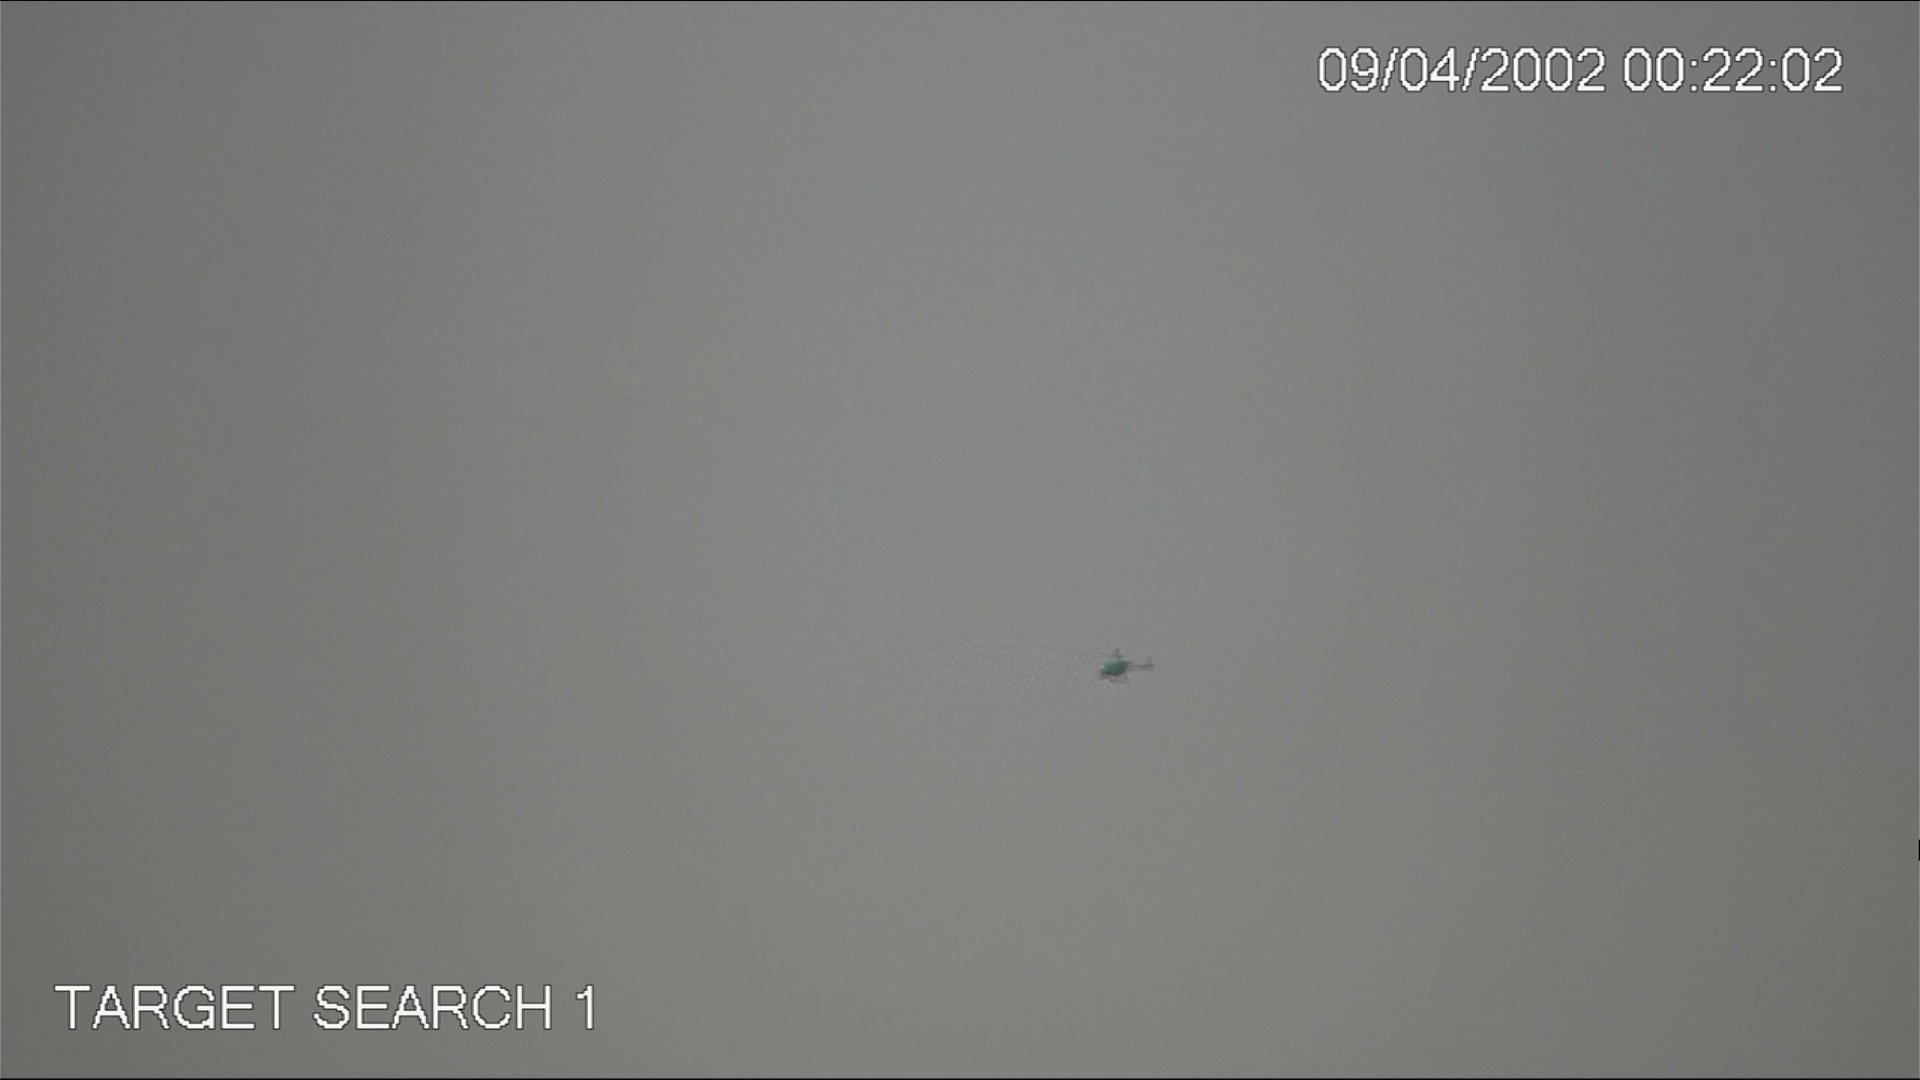SU_30: (1095, 649, 1134, 683)
